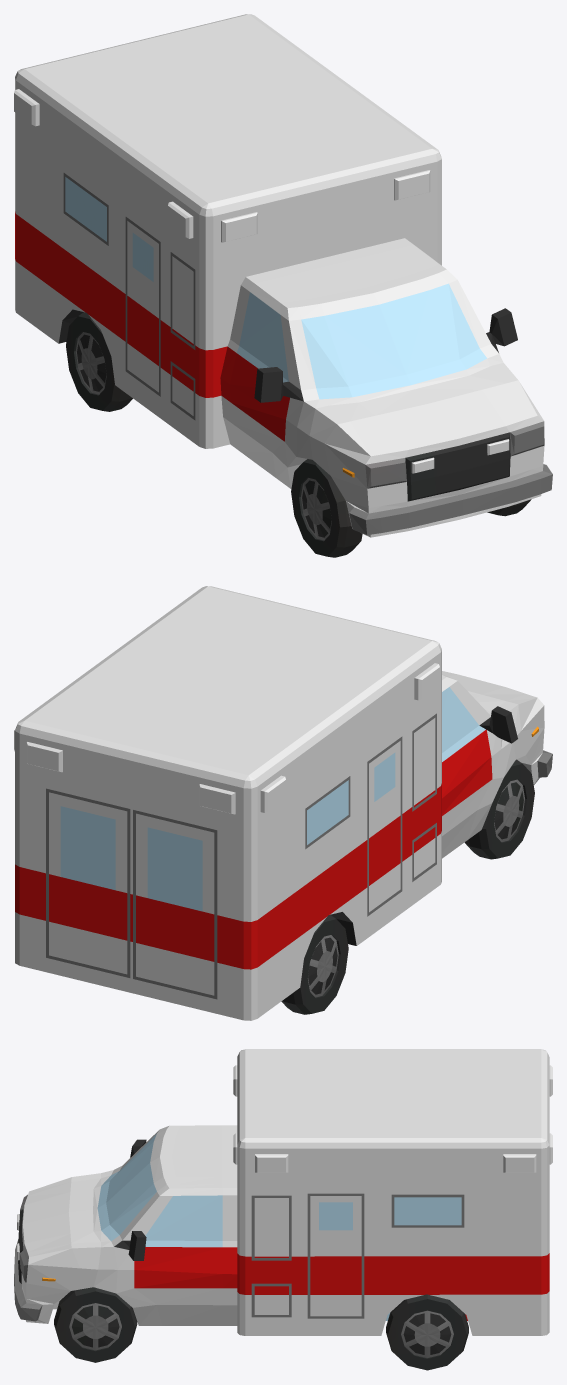
File: veh_car_ambulance.glb
3 renders of one model, top to bottom at view 1: azimuth 30°, elevation 25°; view 2: azimuth 150°, elevation 25°; view 3: azimuth 270°, elevation 25°, orthographic. The views are drawn at different scales.
Parts seen in each view (by area): view 1: Ambulance; view 2: Ambulance; view 3: Ambulance.
Boxes of the visible parts, left/top/right/bottom form: Ambulance: left=14, top=14, right=552, bottom=557; Ambulance: left=14, top=586, right=552, bottom=1020; Ambulance: left=14, top=1049, right=552, bottom=1370.
Bounding box in the file's own units: 2.49 × 2.67 × 5.6.
1 material, 1 textured.
